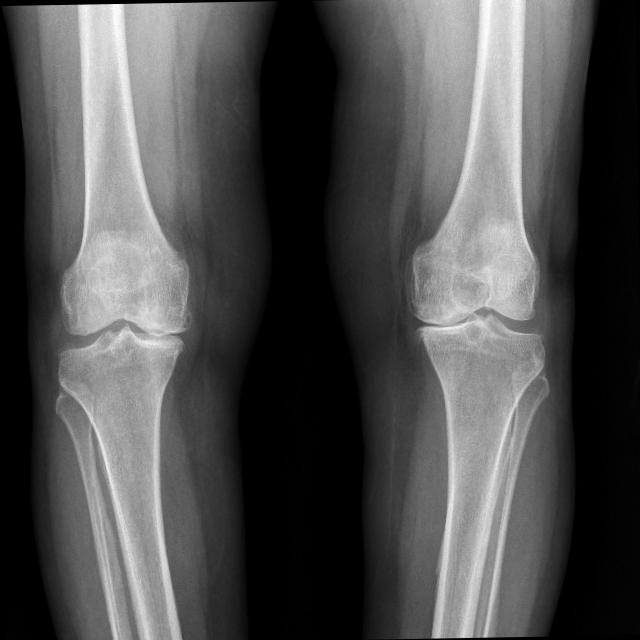Knee: (410, 239, 550, 398), (54, 252, 198, 406)
